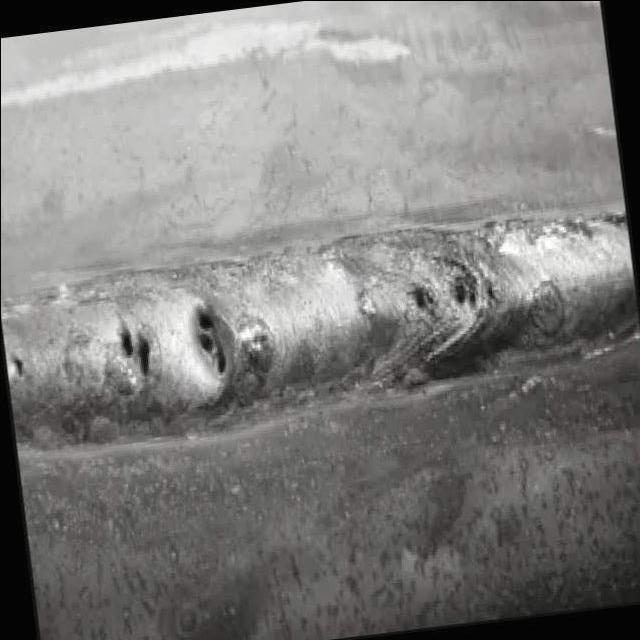defect: (188, 296, 233, 383), (109, 310, 155, 387), (444, 270, 495, 312), (404, 272, 439, 319), (7, 350, 29, 382)
